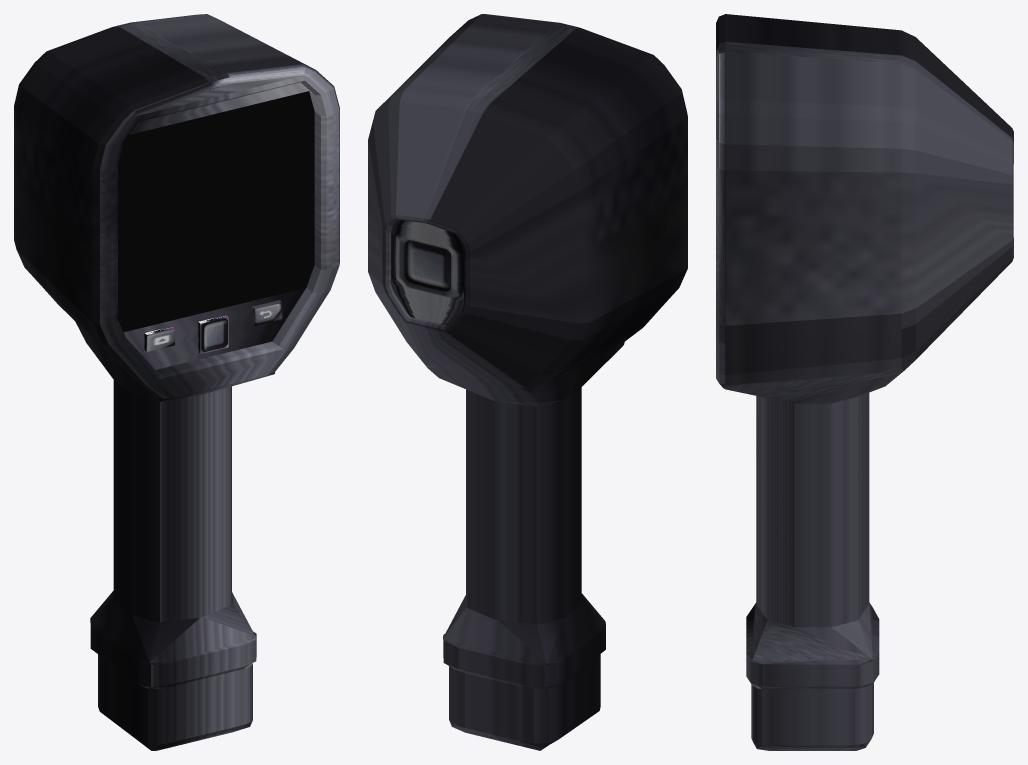
File: iRCam.fbx
The picture shows the model from 3 angles, left to right: view 1: azimuth 30°, elevation 25°; view 2: azimuth 150°, elevation 25°; view 3: azimuth 270°, elevation 25°; orthographic projection. The views are drawn at different scales.
Visible parts, largest first — view 1: Cube, Cube.003, Cube.001, Cube.002; view 2: Cube; view 3: Cube.
Boxes of the visible parts, bbox=[...] form: Cube: bbox=[14, 14, 339, 750]; Cube.003: bbox=[198, 315, 228, 353]; Cube.001: bbox=[251, 300, 282, 325]; Cube.002: bbox=[144, 326, 174, 351]; Cube: bbox=[368, 14, 687, 750]; Cube: bbox=[716, 14, 1013, 750].
Size of the model in its own units: 179 by 476 by 186.
